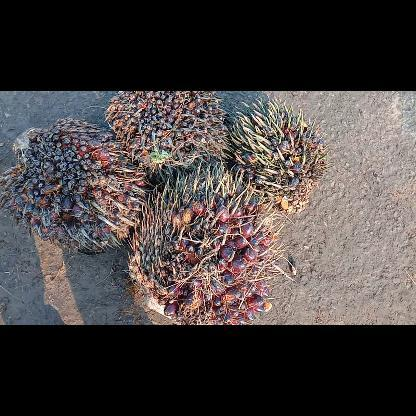TBS abnormal: (0, 115, 154, 255), (225, 94, 333, 216), (101, 91, 233, 177)
TBS masak: (122, 158, 286, 324)
